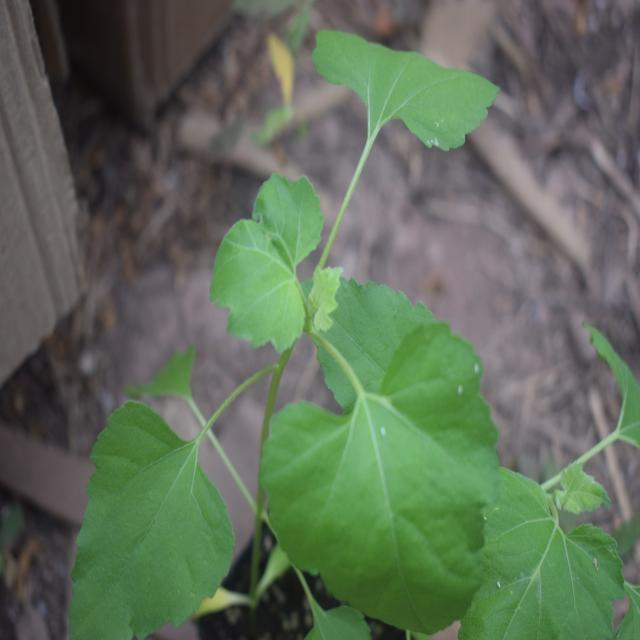cocklebur: (67, 48, 559, 612)
